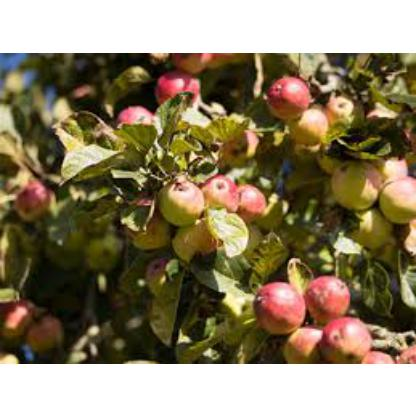apple: (250, 278, 308, 329), (329, 159, 383, 205), (298, 270, 348, 318), (315, 316, 368, 356), (154, 172, 200, 216), (266, 75, 308, 118), (114, 100, 156, 142), (286, 100, 326, 144), (202, 169, 238, 215), (156, 67, 198, 102), (234, 184, 270, 220)
